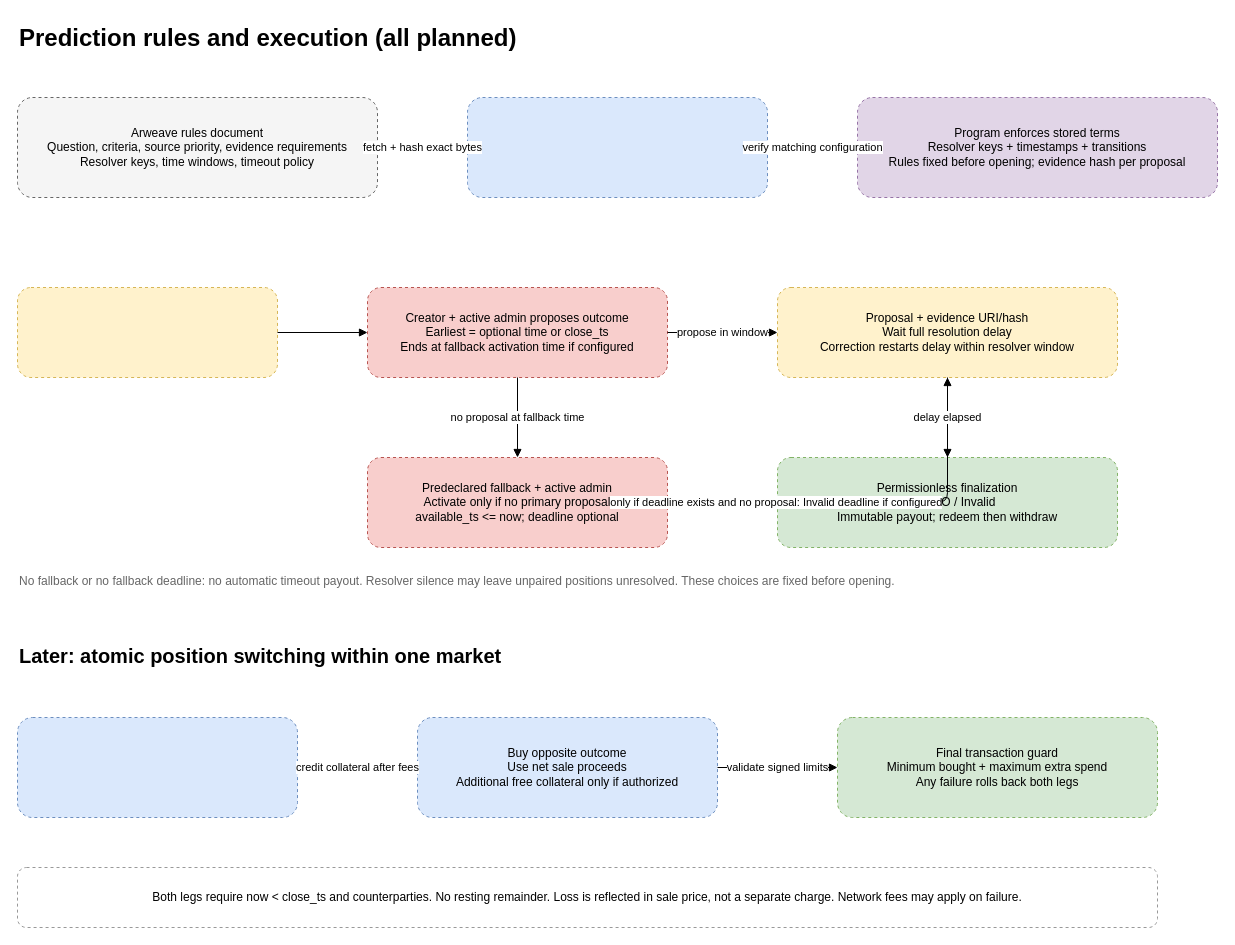
Image size: 1235x945. Some labels were removed from this diagram. Each missing label, with the centre of its shape:
Client verifies document hash and compares structured terms with market account: pixel 617 147
now >= close_ts Placement and matching reject Cancellation remains available: pixel 147 332
Sell free YES (or NO) Bounded FIFO fills Minimum quantity and net proceeds: pixel 157 767
